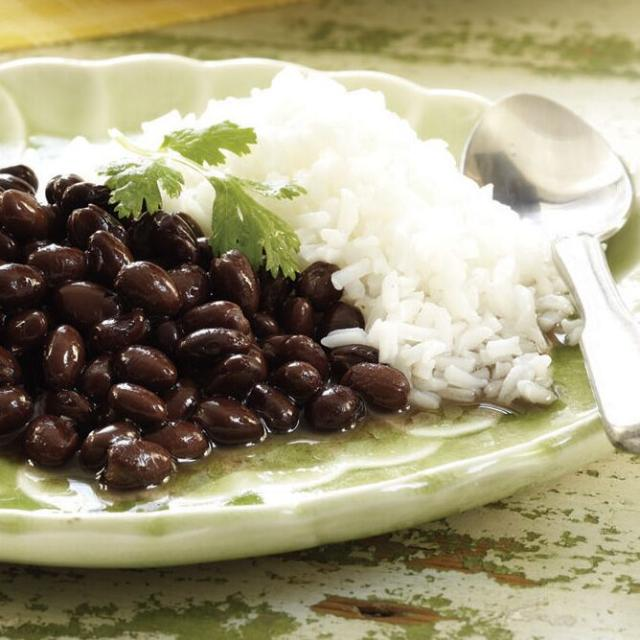arroz: (178, 56, 579, 406)
frijoles: (1, 161, 410, 501)
